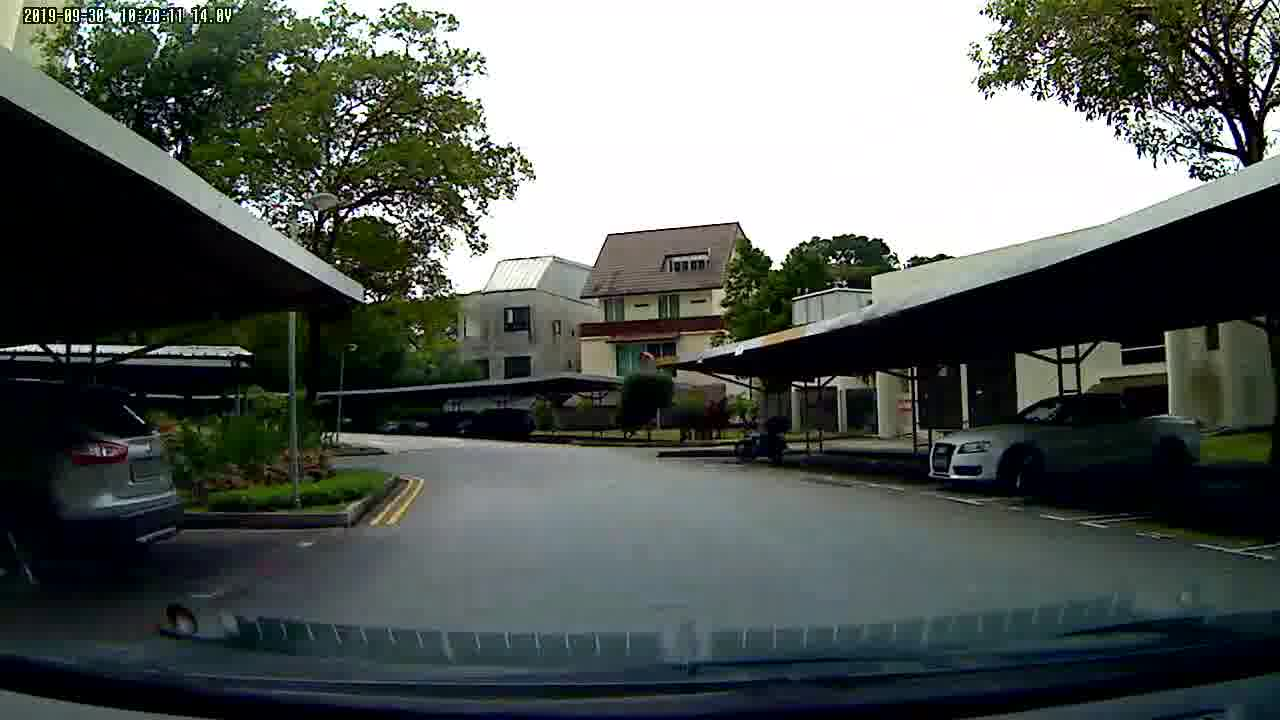car: (1, 357, 194, 594), (927, 390, 1225, 503)
